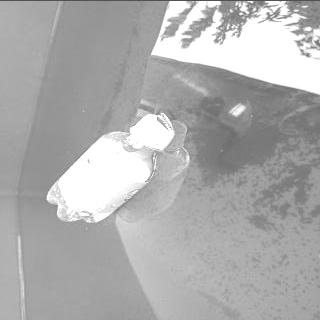bottle: (43, 111, 176, 224)
